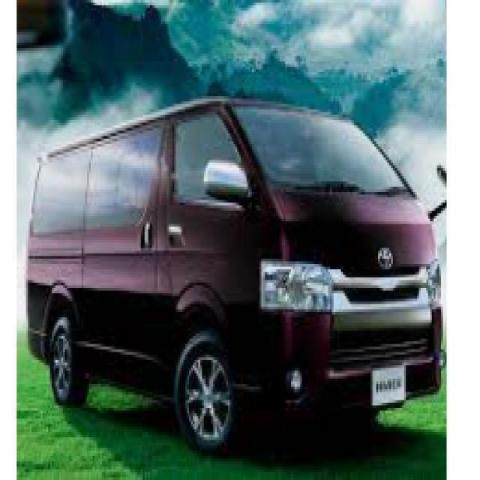van: (23, 95, 446, 458)
